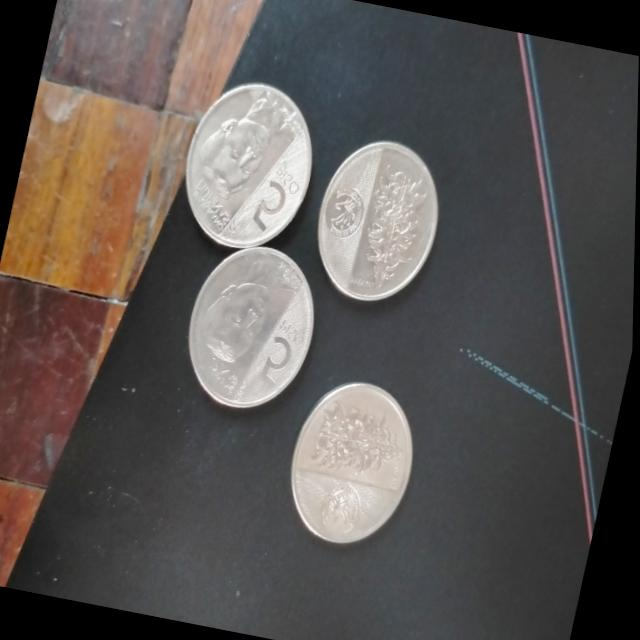5_New_Back: (345, 162, 432, 296)
5_New_Front: (250, 306, 317, 408), (244, 150, 313, 240)
